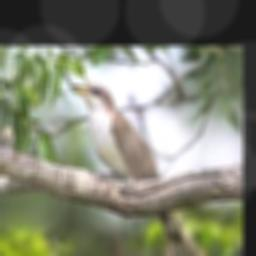Cuckoo: (68, 82, 197, 256)
